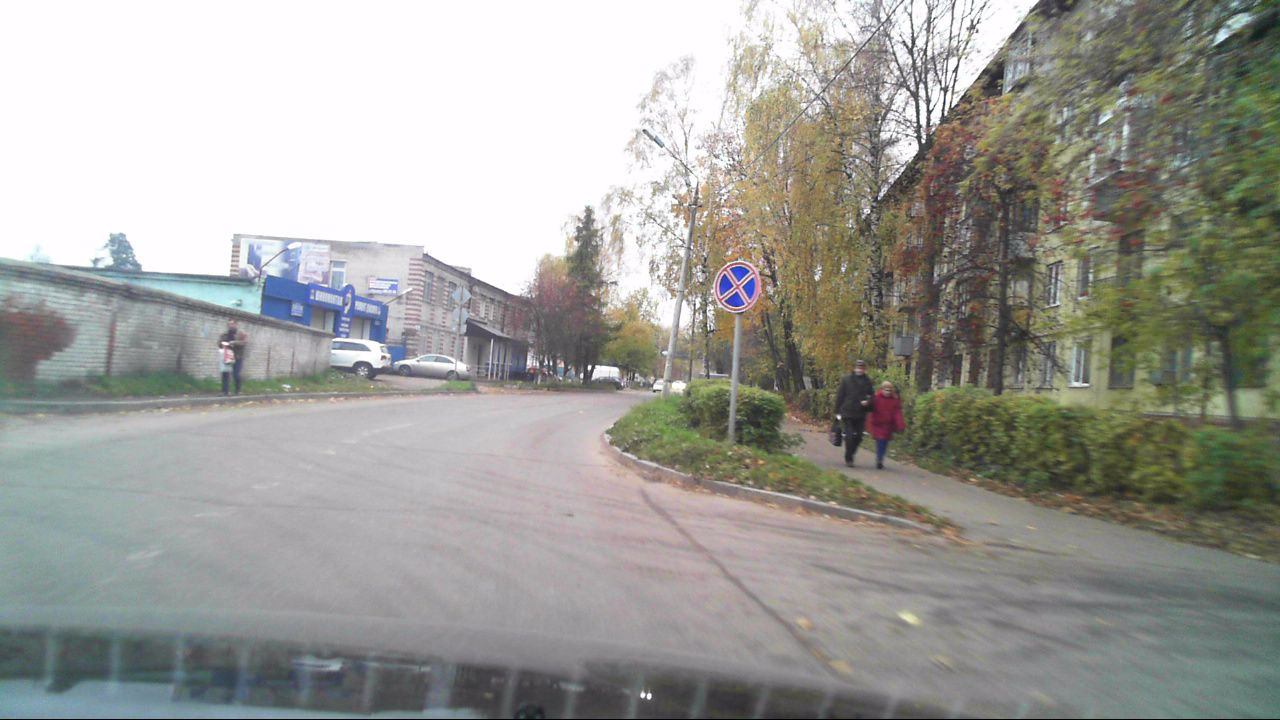No Parking: (713, 262, 760, 313)
